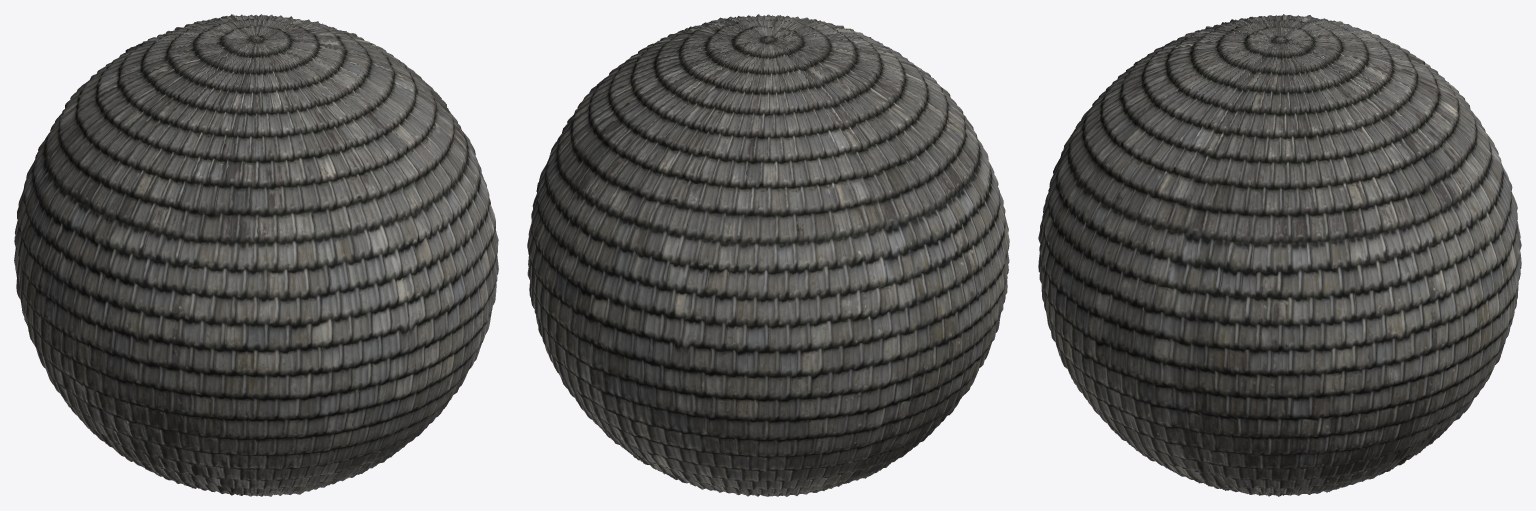
The model's file is grey_roof_01_2k.gltf.
3 renders of one model, left to right at view 1: azimuth 30°, elevation 25°; view 2: azimuth 150°, elevation 25°; view 3: azimuth 270°, elevation 25°, orthographic.
Visible parts, largest first — view 1: sphere_gltf; view 2: sphere_gltf; view 3: sphere_gltf.
Part boxes in pixels (<box>): sphere_gltf: <box>14,14,498,496</box>; sphere_gltf: <box>527,14,1009,496</box>; sphere_gltf: <box>1038,14,1521,496</box>.
Size of the model in its own units: 7.99 by 8.04 by 8.05.
1 material, 1 textured.
